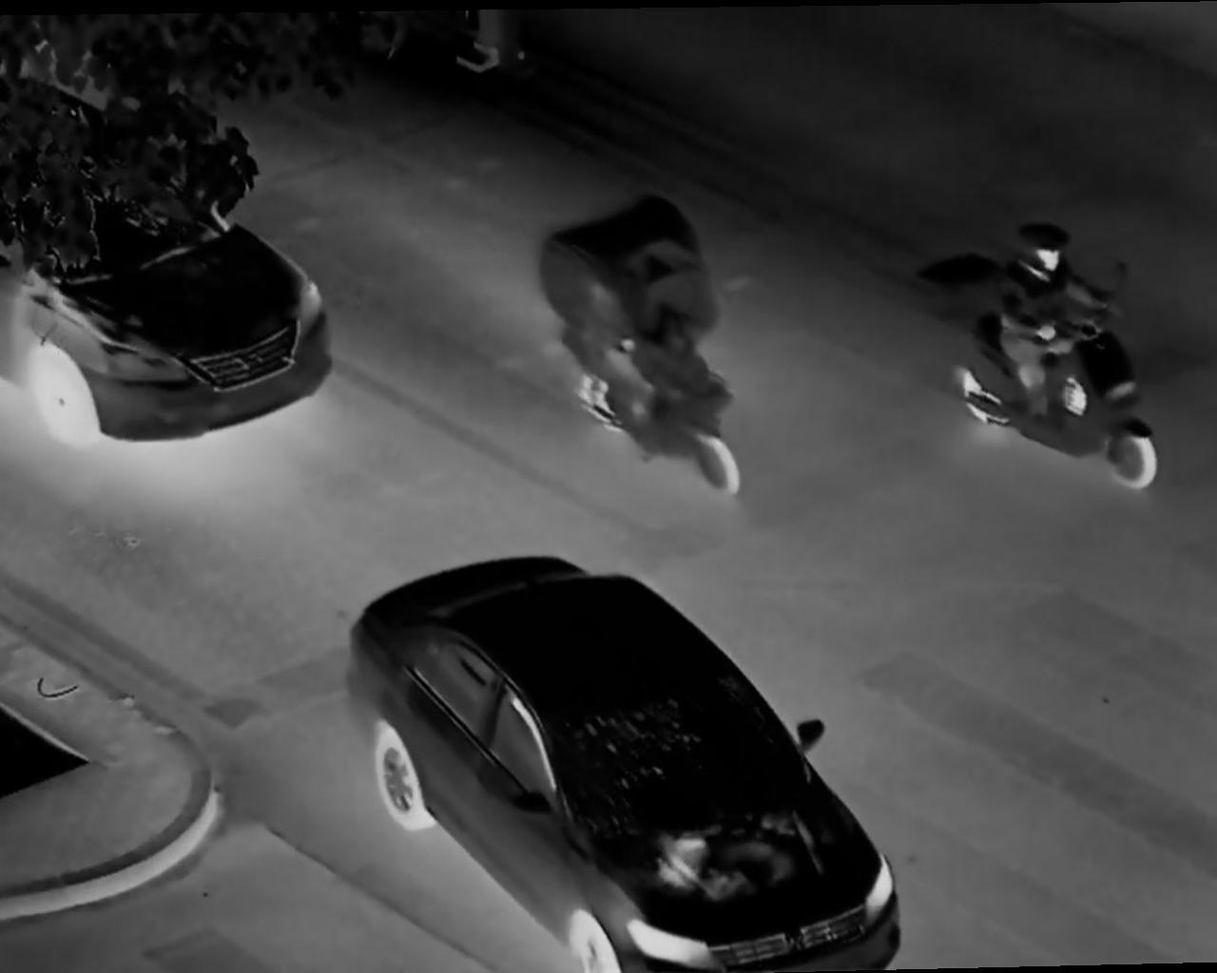person: (995, 208, 1116, 448)
